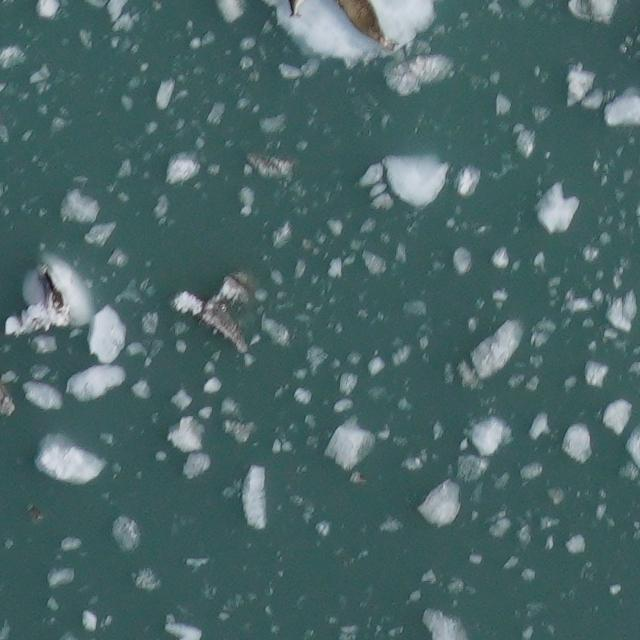seal: (324, 0, 400, 56)
